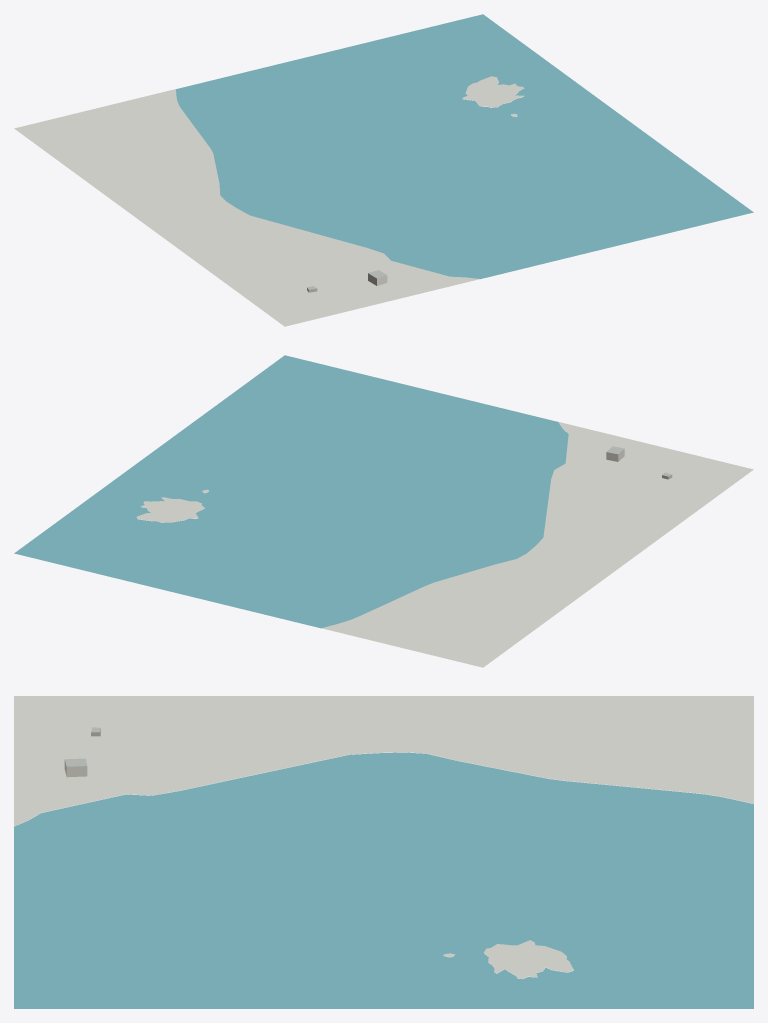
3 views of the same model, one above another, from view 1: azimuth 30°, elevation 25°; view 2: azimuth 150°, elevation 25°; view 3: azimuth 270°, elevation 25° (orthographic). The views are drawn at different scales.
Parts seen in each view (by area): view 1: city; view 2: city; view 3: city.
Boxes of the visible parts, left/top/right/bottom form: city: left=14, top=14, right=753, bottom=326; city: left=14, top=355, right=753, bottom=667; city: left=14, top=696, right=753, bottom=1008.
Bounding box in the file's own units: 500 × 7.98 × 500.
